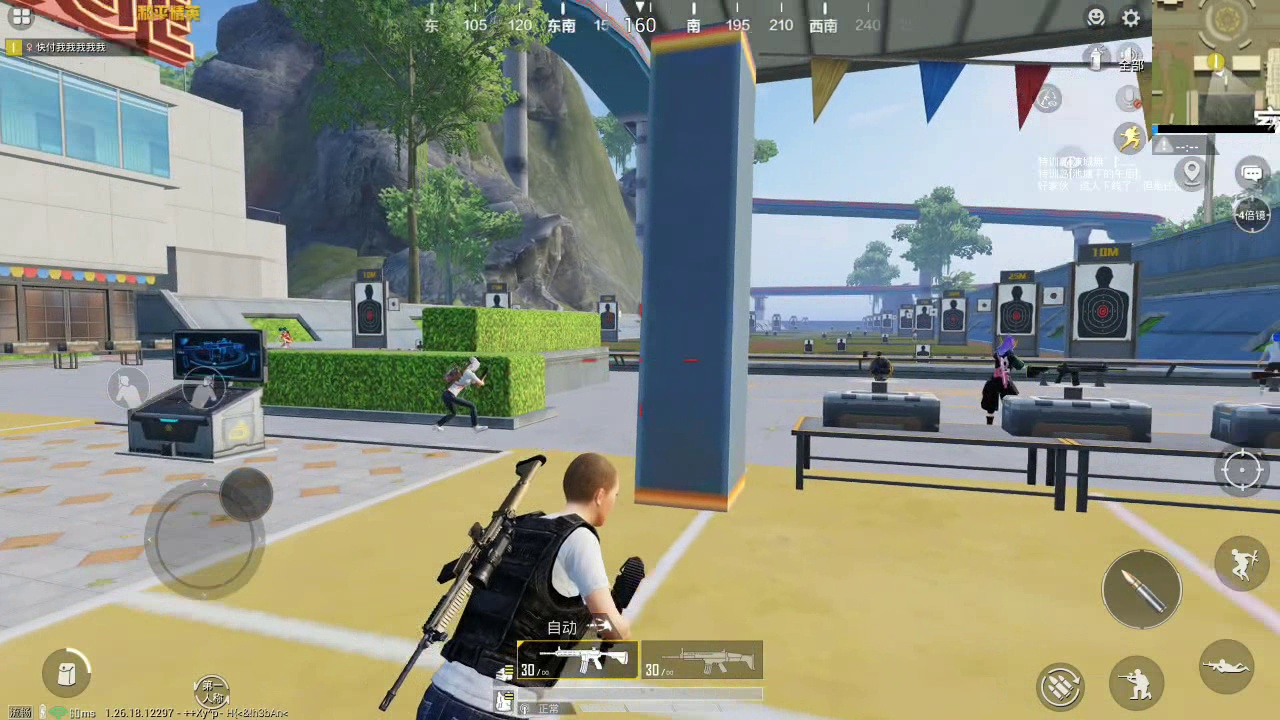enemy: (984, 332, 1023, 421), (444, 358, 486, 431)
